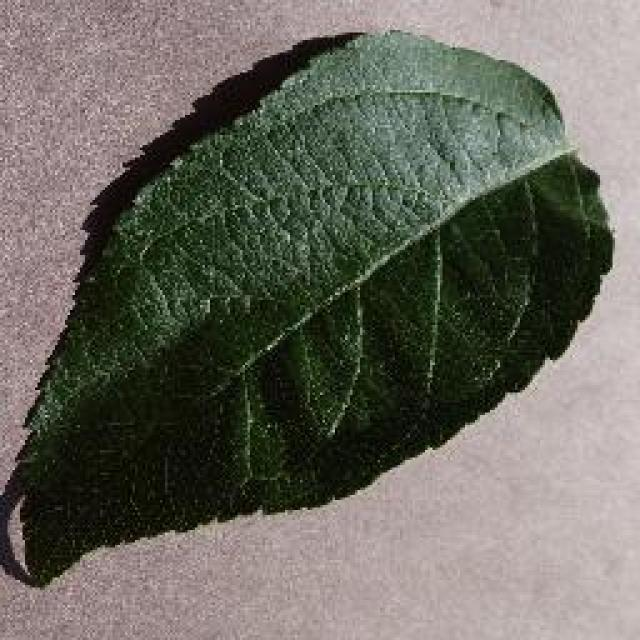apple healthy: (0, 25, 615, 587)
